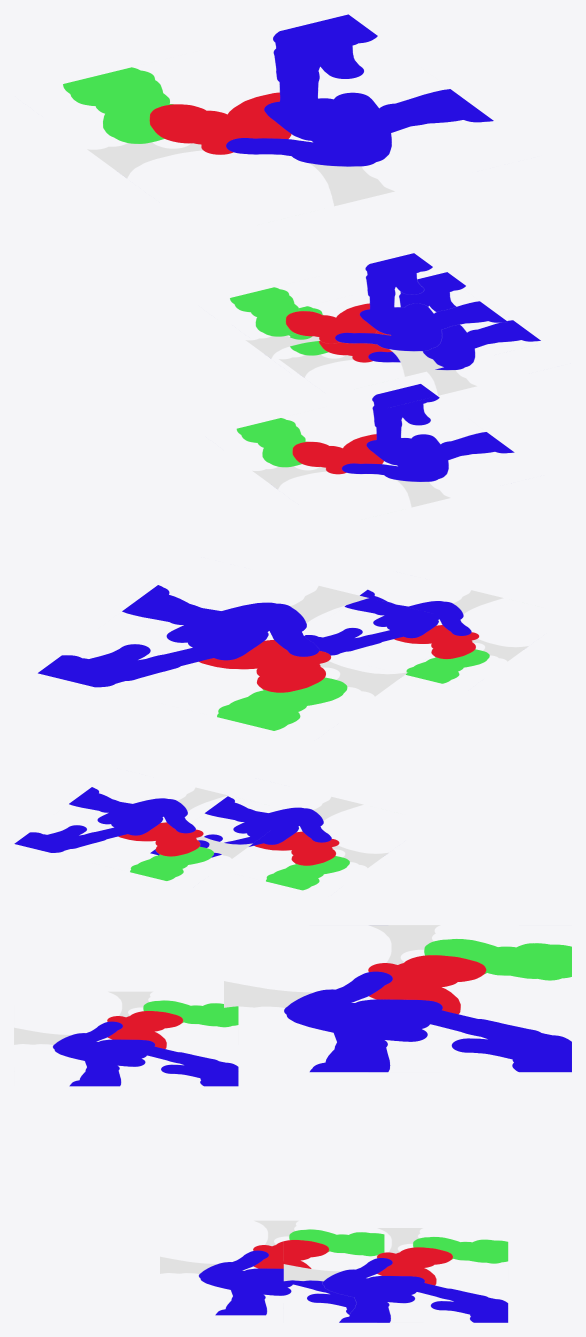
File: AlphaTest.glb
The picture shows the model from 3 angles, top to bottom: view 1: azimuth 30°, elevation 25°; view 2: azimuth 150°, elevation 25°; view 3: azimuth 270°, elevation 25°; orthographic projection. The views are drawn at different scales.
Visible parts, largest first — view 1: Plane.004, Plane.003, Plane.001, Plane.002; view 2: Plane.004, Plane.002, Plane.003, Plane.001; view 3: Plane.004, Plane.003, Plane.002, Plane.001.
Part boxes in pixels (<box>): Plane.004: <box>63,14,493,206</box>; Plane.003: <box>230,253,507,376</box>; Plane.001: <box>236,383,514,507</box>; Plane.002: <box>279,272,540,395</box>; Plane.004: <box>38,585,407,730</box>; Plane.002: <box>14,787,252,880</box>; Plane.003: <box>304,589,528,683</box>; Plane.001: <box>150,796,388,890</box>; Plane.004: <box>224,925,571,1072</box>; Plane.003: <box>14,991,238,1086</box>; Plane.002: <box>283,1228,508,1322</box>; Plane.001: <box>160,1220,384,1315</box>.
Size of what is drawn, in the model's own units: 1.85 by 1.26 by 2.48.
1 material, 1 textured.
